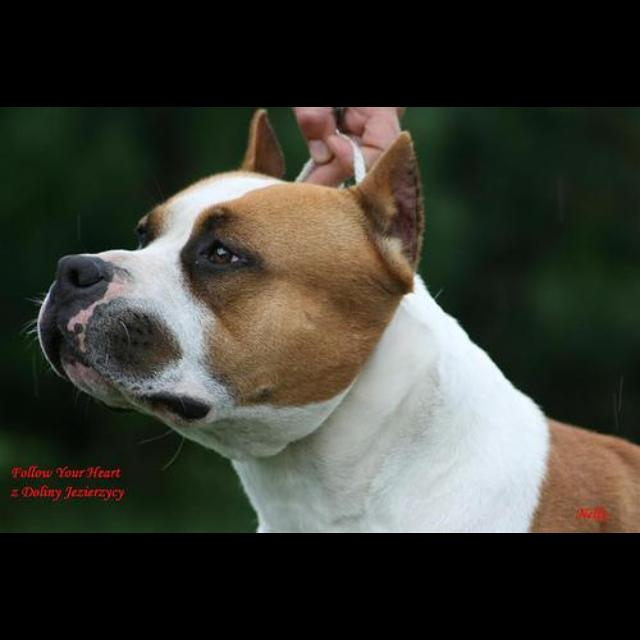amstaff: (25, 108, 640, 532)
